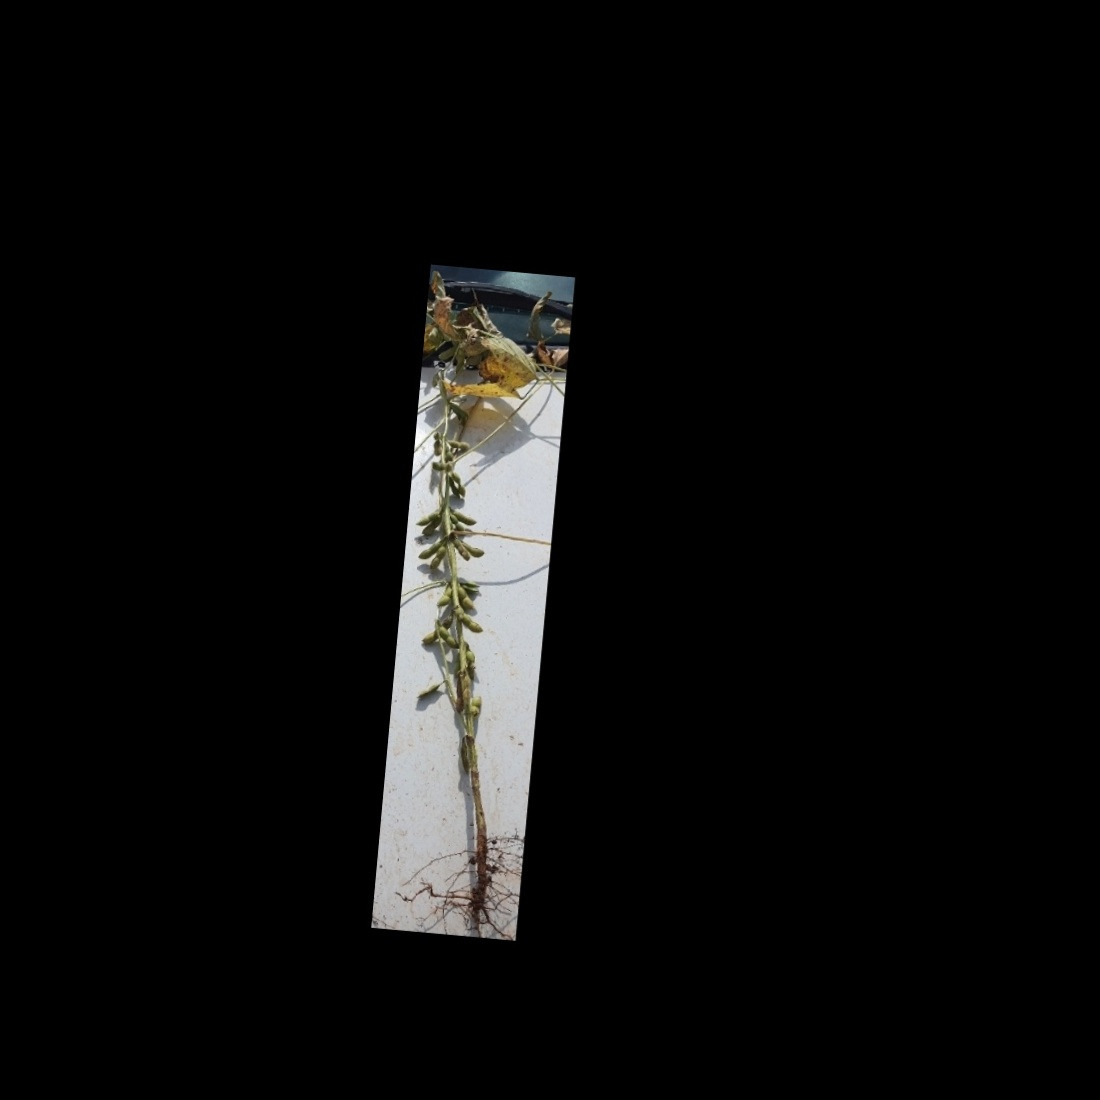pod: (435, 623, 462, 650), (453, 612, 486, 635), (413, 680, 442, 703), (427, 543, 449, 572), (450, 469, 470, 500), (451, 538, 474, 563), (421, 514, 443, 537), (412, 507, 437, 526), (453, 677, 465, 713), (435, 586, 453, 609), (449, 515, 468, 535), (444, 437, 471, 451), (431, 430, 444, 458), (462, 643, 479, 663), (469, 694, 482, 718), (429, 372, 440, 391)
soy: (380, 289, 561, 921)
